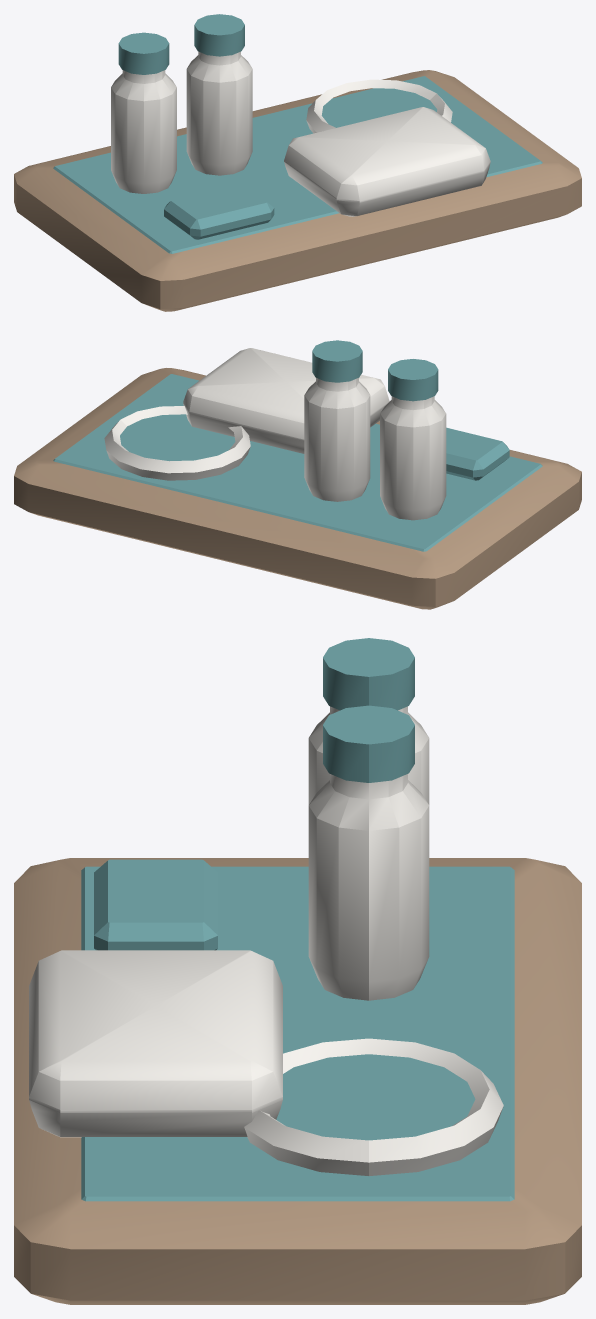
File: toiletries-tray.glb
3 renders of one model, top to bottom at view 1: azimuth 30°, elevation 25°; view 2: azimuth 150°, elevation 25°; view 3: azimuth 270°, elevation 25°, orthographic. The views are drawn at different scales.
Visible parts, largest first — view 1: amenity-tray; view 2: amenity-tray; view 3: amenity-tray.
Part boxes in pixels (bbox=[...]): amenity-tray: bbox=[14, 14, 581, 311]; amenity-tray: bbox=[14, 340, 581, 609]; amenity-tray: bbox=[14, 638, 581, 1304].
Bounding box in the file's own units: 0.26 × 0.108 × 0.16.
